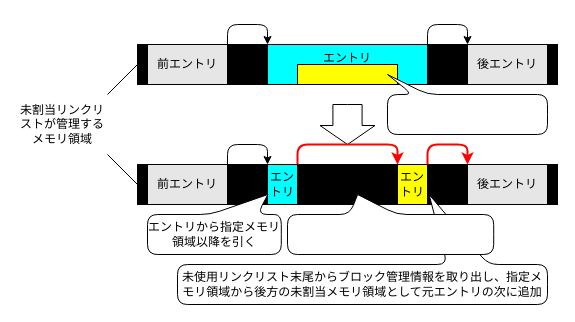
Image size: 575x322. Some labels were removed from this diagram. Here are the shapes that lost their labels. From the top down, the centre of each, then its label:
At [347,74]: "指定メモリ領域".
At [467,104]: "エントリのメモリ領域内の中間に指定メモリ領域がある".
At [390,224]: "指定メモリ領域を割当済リンクリストに追加（メモリ領域追加）".
